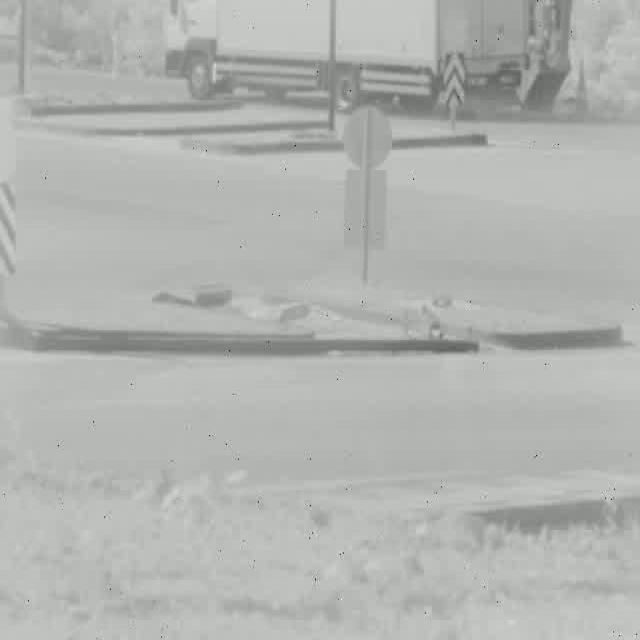Car: (162, 0, 514, 115)
